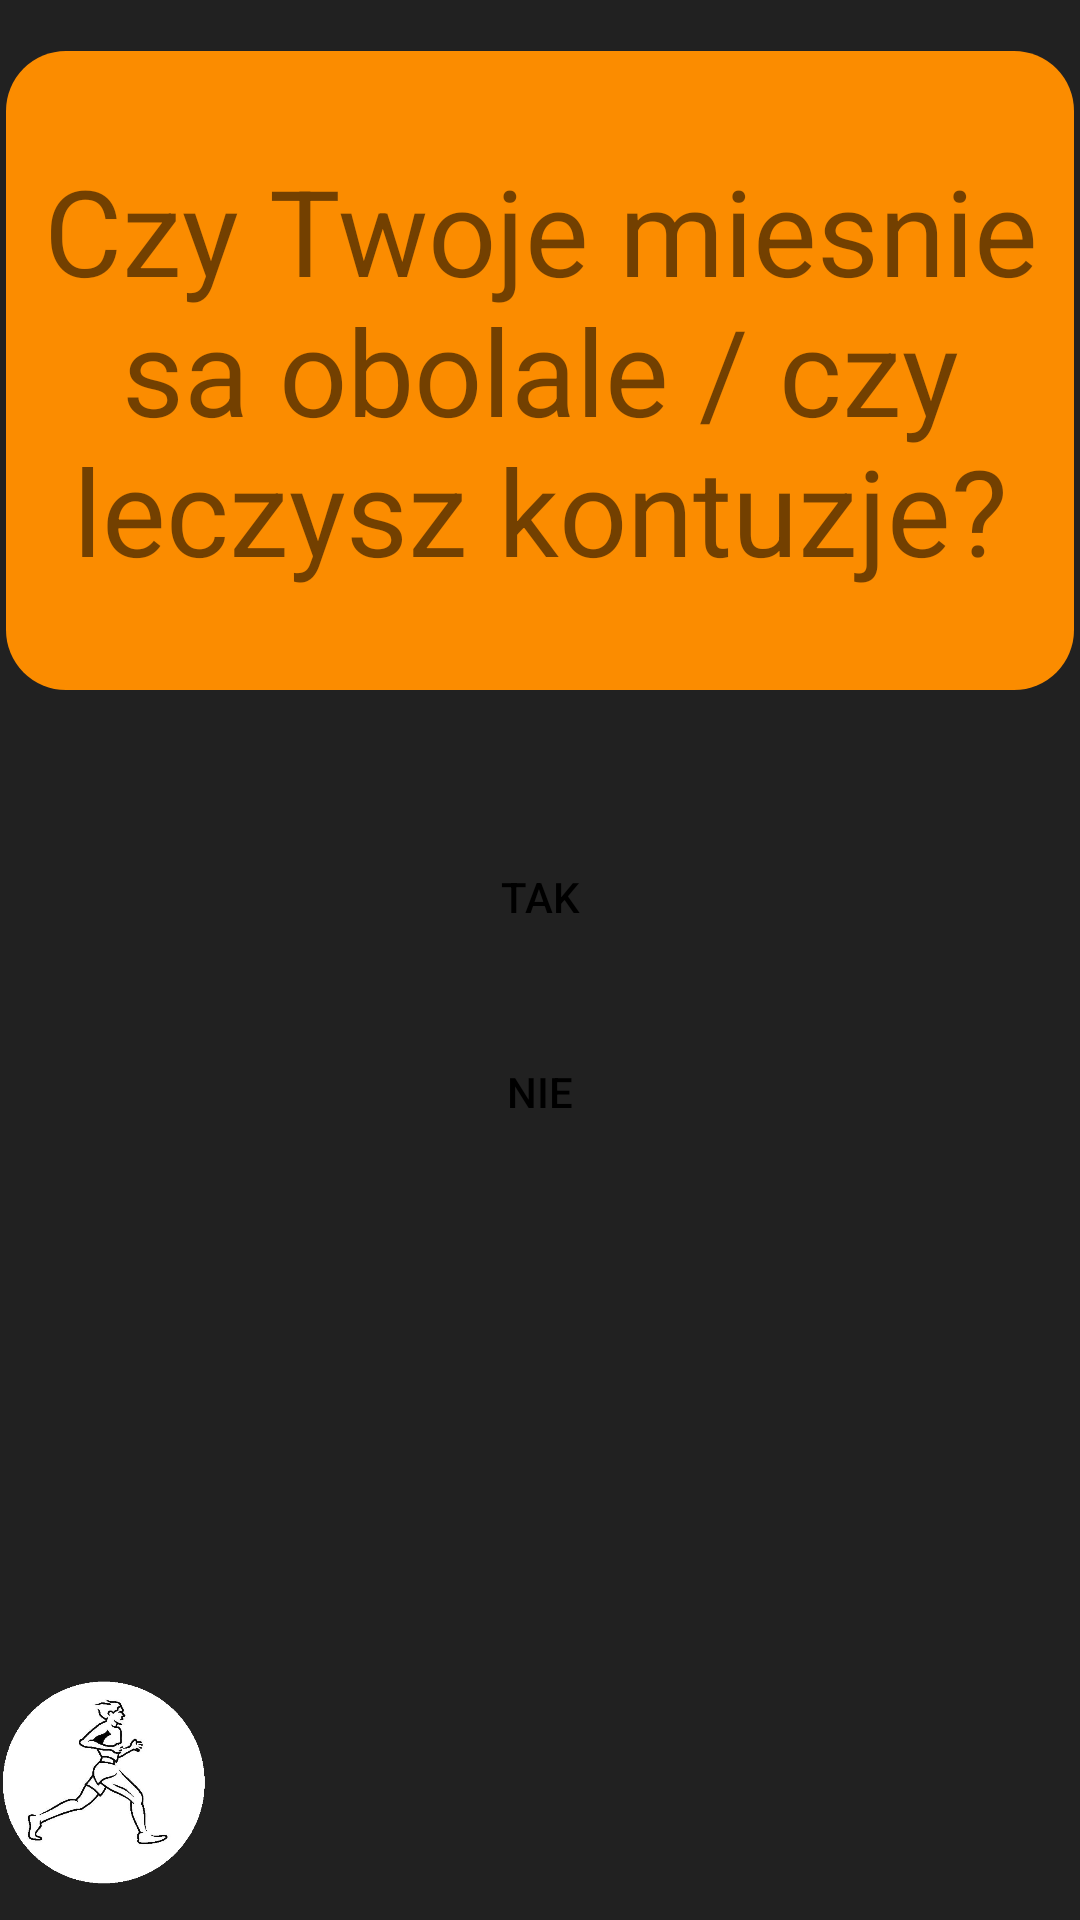

Screen size 1080px×1920px. Icon name, then its box in pixels as (x1, y1, x2, y2):
biegaczz: (3, 1681, 205, 1884)
